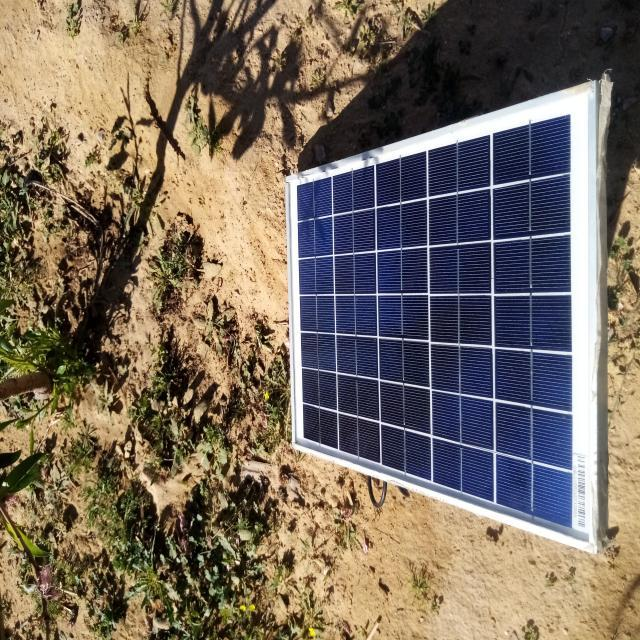no faulty: (288, 84, 598, 554)
